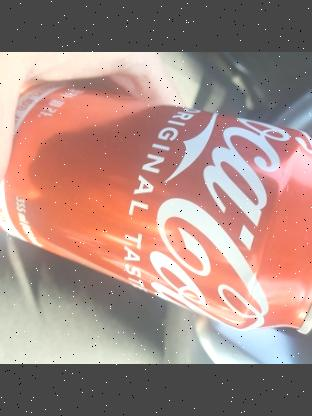Can: (0, 77, 312, 335)
